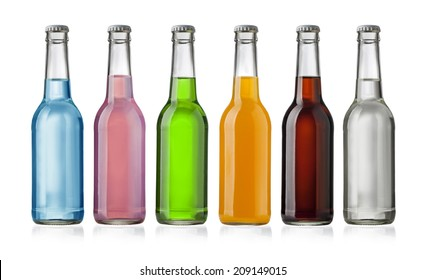glass_bottle: (84, 22, 152, 226), (213, 21, 276, 228), (276, 22, 338, 230), (152, 21, 213, 229), (339, 22, 400, 229), (28, 23, 87, 229)
